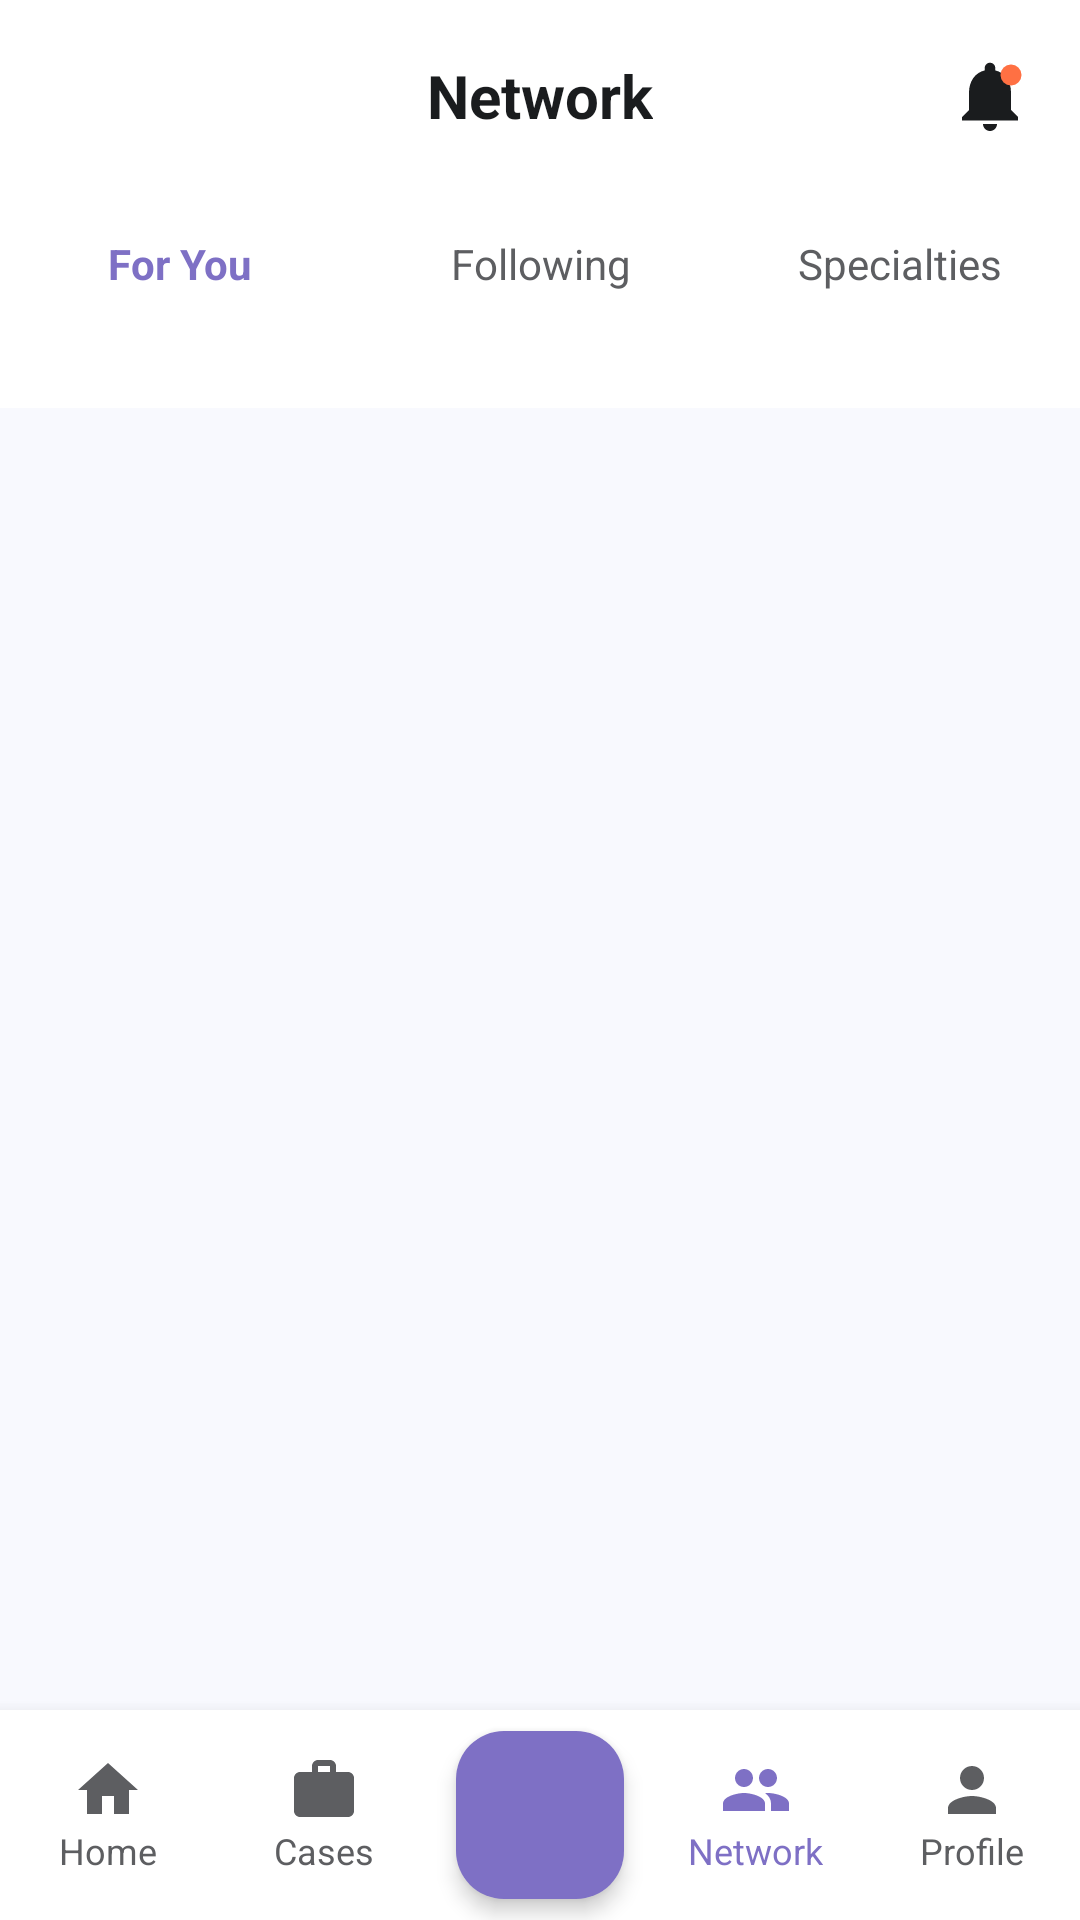

Where icons sit on this 1080 x 1920 app screen, as [x1=x1, y1=y1, x2=x2, y2=y2]:
notification: [x1=962, y1=62, x2=1022, y2=131]
